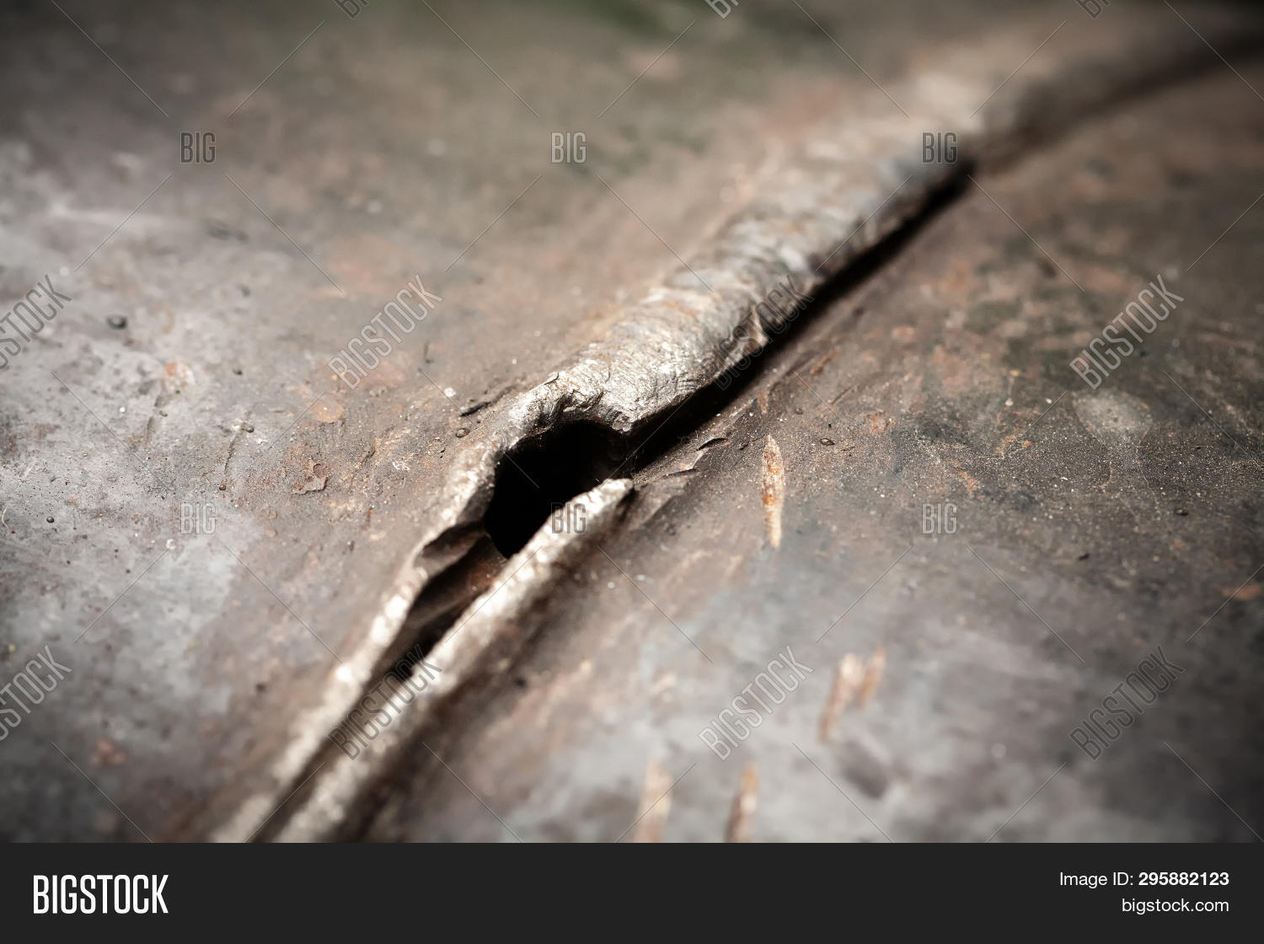crack: (286, 133, 979, 822), (660, 142, 960, 497)
hole: (409, 399, 652, 644)
